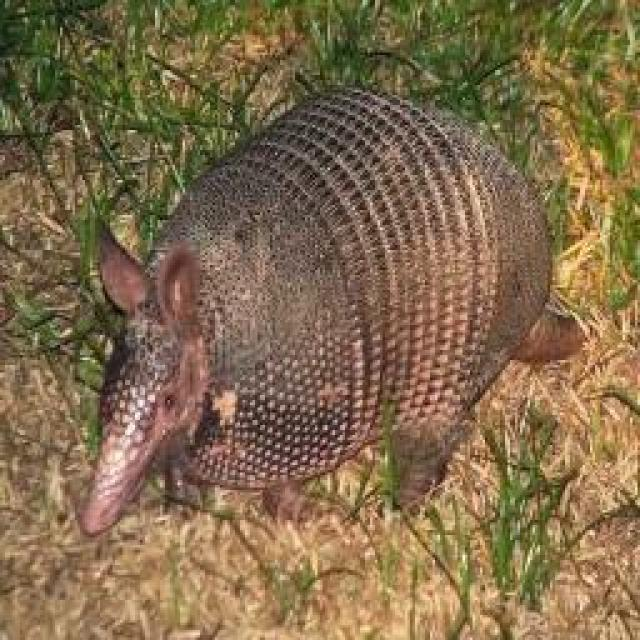not_pig: (72, 82, 588, 538)
